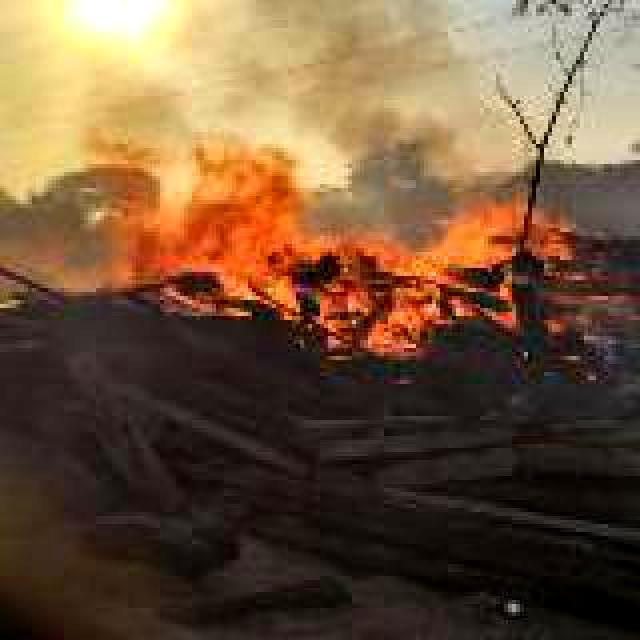smoke: (224, 0, 468, 196)
